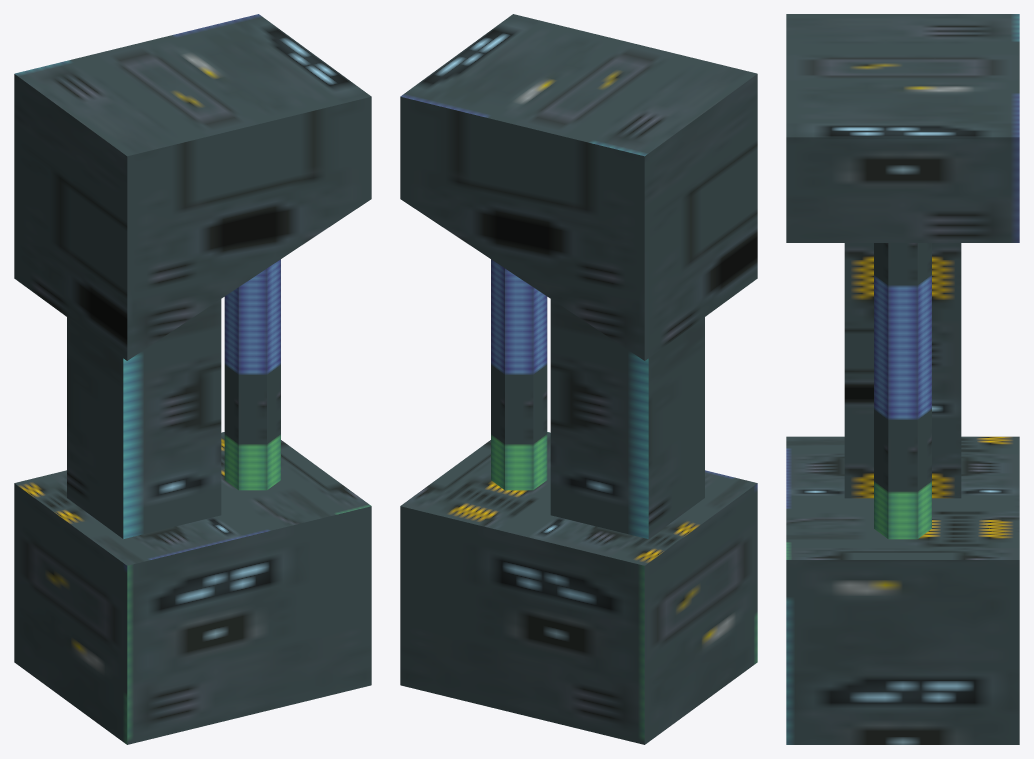
The model's file is charging_station.obj.
The picture shows the model from 3 angles, left to right: view 1: azimuth 30°, elevation 25°; view 2: azimuth 150°, elevation 25°; view 3: azimuth 270°, elevation 25°; orthographic projection. The views are drawn at different scales.
Parts seen in each view (by area): view 1: charging_station; view 2: charging_station; view 3: charging_station.
Part boxes in pixels (box(x1,y1,x2,y2)): charging_station: box(14, 14, 371, 744); charging_station: box(400, 14, 757, 744); charging_station: box(786, 14, 1019, 744).
Bounding box in the file's own units: 1 × 2.3 × 0.8.
